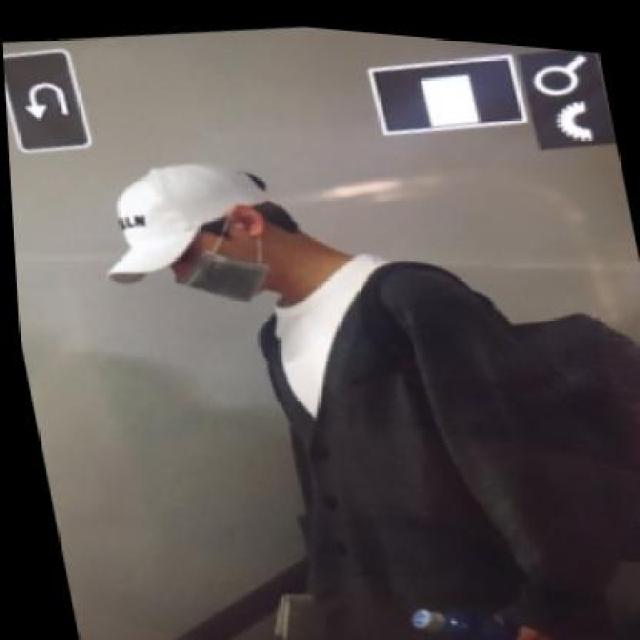hat: (78, 135, 296, 300)
